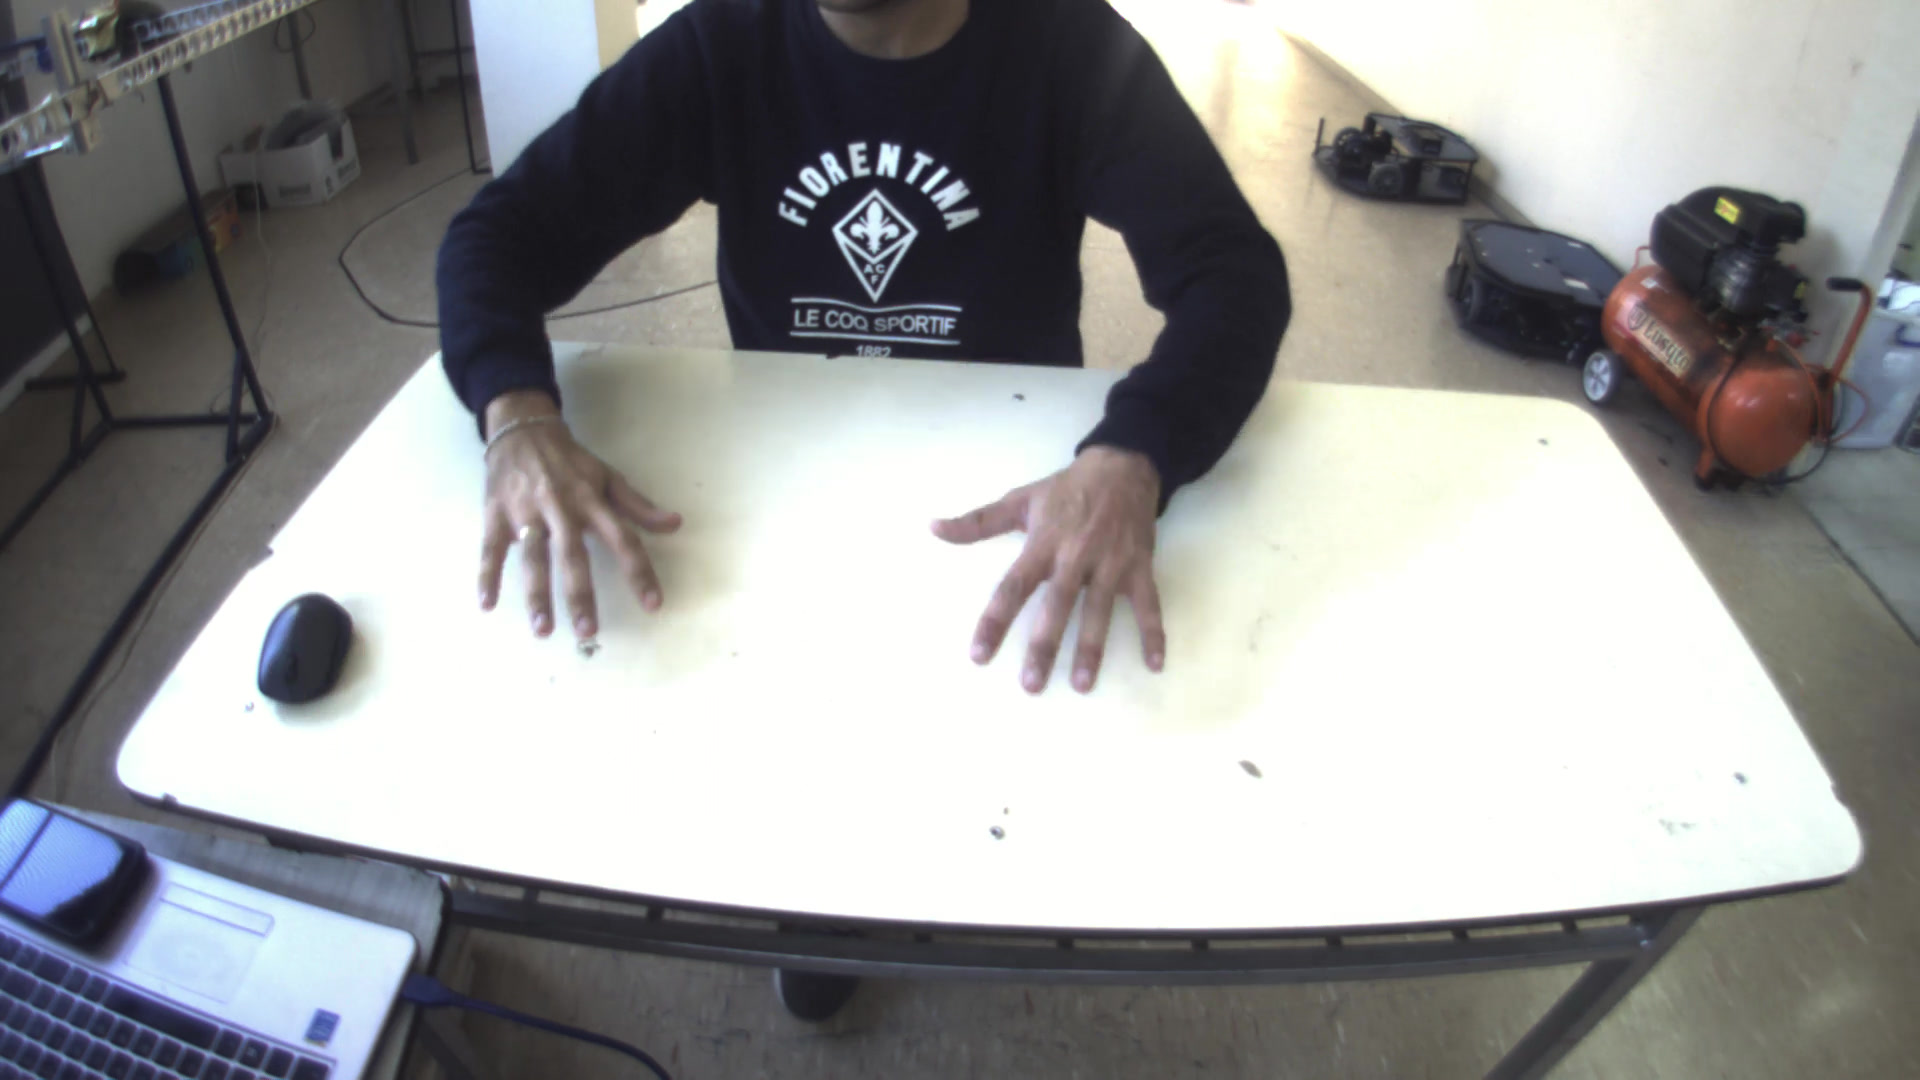hand: (927, 439, 1188, 703), (454, 394, 690, 651)
